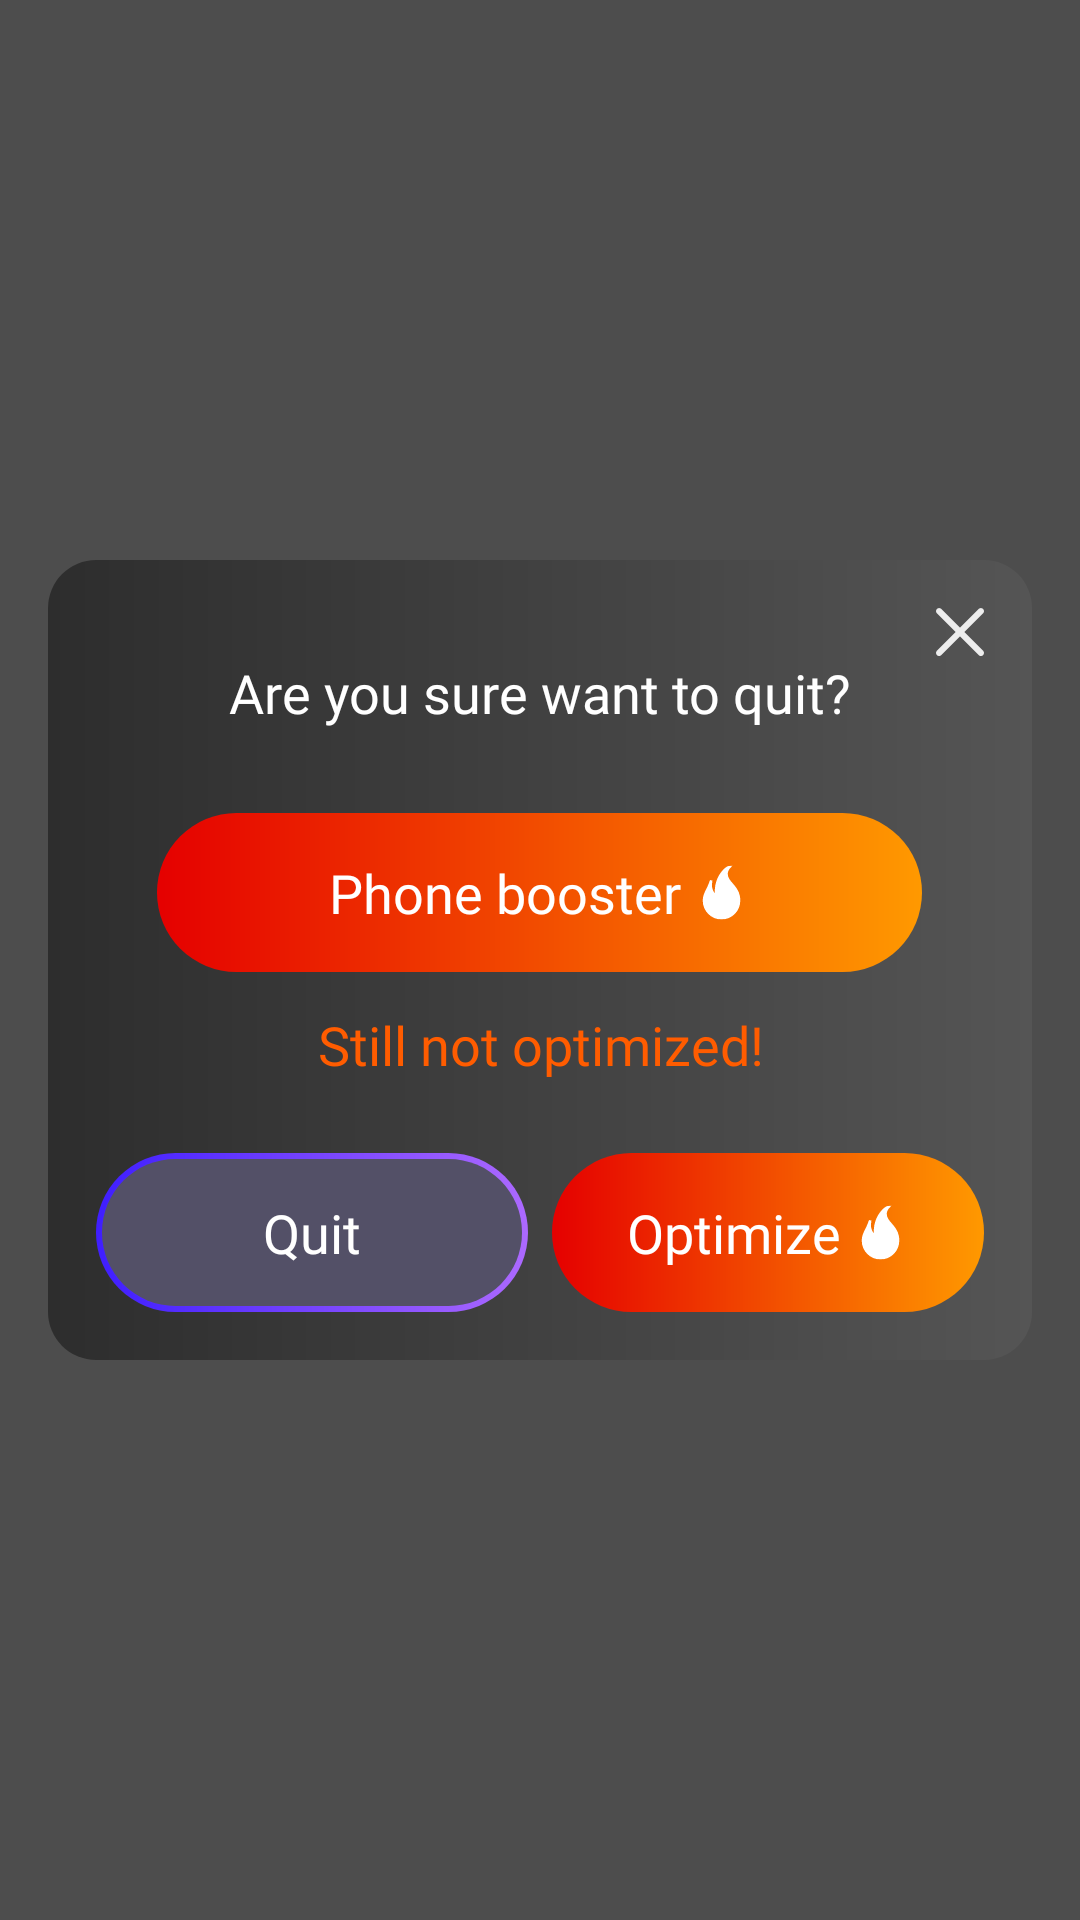

Where to tap for icons on this 1080px×1920px app screen, as (x=x, y=y):
close: (x=960, y=632)
fire: (x=721, y=892), (x=880, y=1232)
